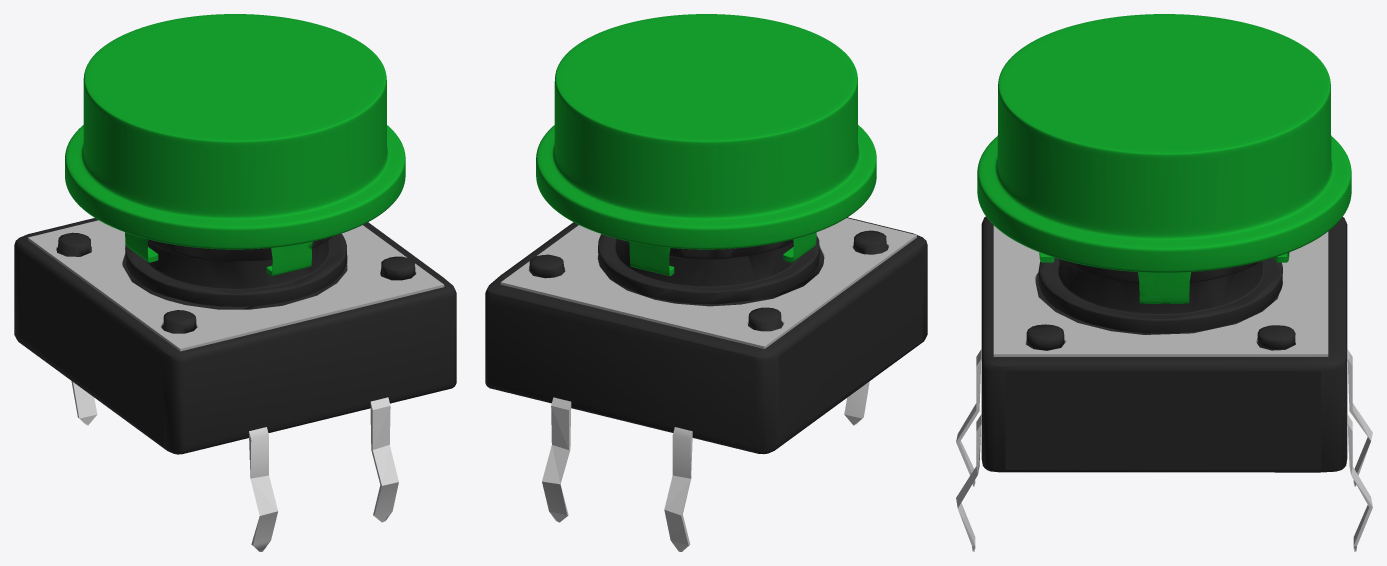
The model's file is PushButton.fbx.
3 renders of one model, left to right at view 1: azimuth 30°, elevation 25°; view 2: azimuth 150°, elevation 25°; view 3: azimuth 270°, elevation 25°, orthographic. The views are drawn at different scales.
Parts seen in each view (by area): view 1: botao.002, botao.004, botao.003, botao.005, botao.006, botao.008; view 2: botao.002, botao.004, botao.003, botao.007, botao.008, botao.006; view 3: botao.002, botao.004, botao.003, botao.005, botao.007, botao.006, botao.008.
Boxes of the visible parts, bbox=[...] form: botao.002: bbox=[65, 14, 405, 276]; botao.004: bbox=[14, 218, 456, 454]; botao.003: bbox=[125, 233, 346, 306]; botao.005: bbox=[370, 397, 398, 522]; botao.006: bbox=[249, 427, 278, 551]; botao.008: bbox=[71, 381, 97, 425]; botao.002: bbox=[536, 14, 876, 276]; botao.004: bbox=[485, 217, 927, 454]; botao.003: bbox=[597, 234, 819, 304]; botao.007: bbox=[542, 397, 571, 522]; botao.008: bbox=[664, 427, 692, 551]; botao.006: bbox=[844, 381, 869, 425]; botao.002: bbox=[977, 14, 1351, 303]; botao.004: bbox=[981, 216, 1347, 472]; botao.003: bbox=[1038, 257, 1282, 333]; botao.005: bbox=[956, 414, 981, 551]; botao.007: bbox=[1347, 415, 1372, 551]; botao.006: bbox=[956, 349, 981, 486]; botao.008: bbox=[1347, 349, 1372, 486].
Bounding box in the file's own units: 123 × 158 × 137.
